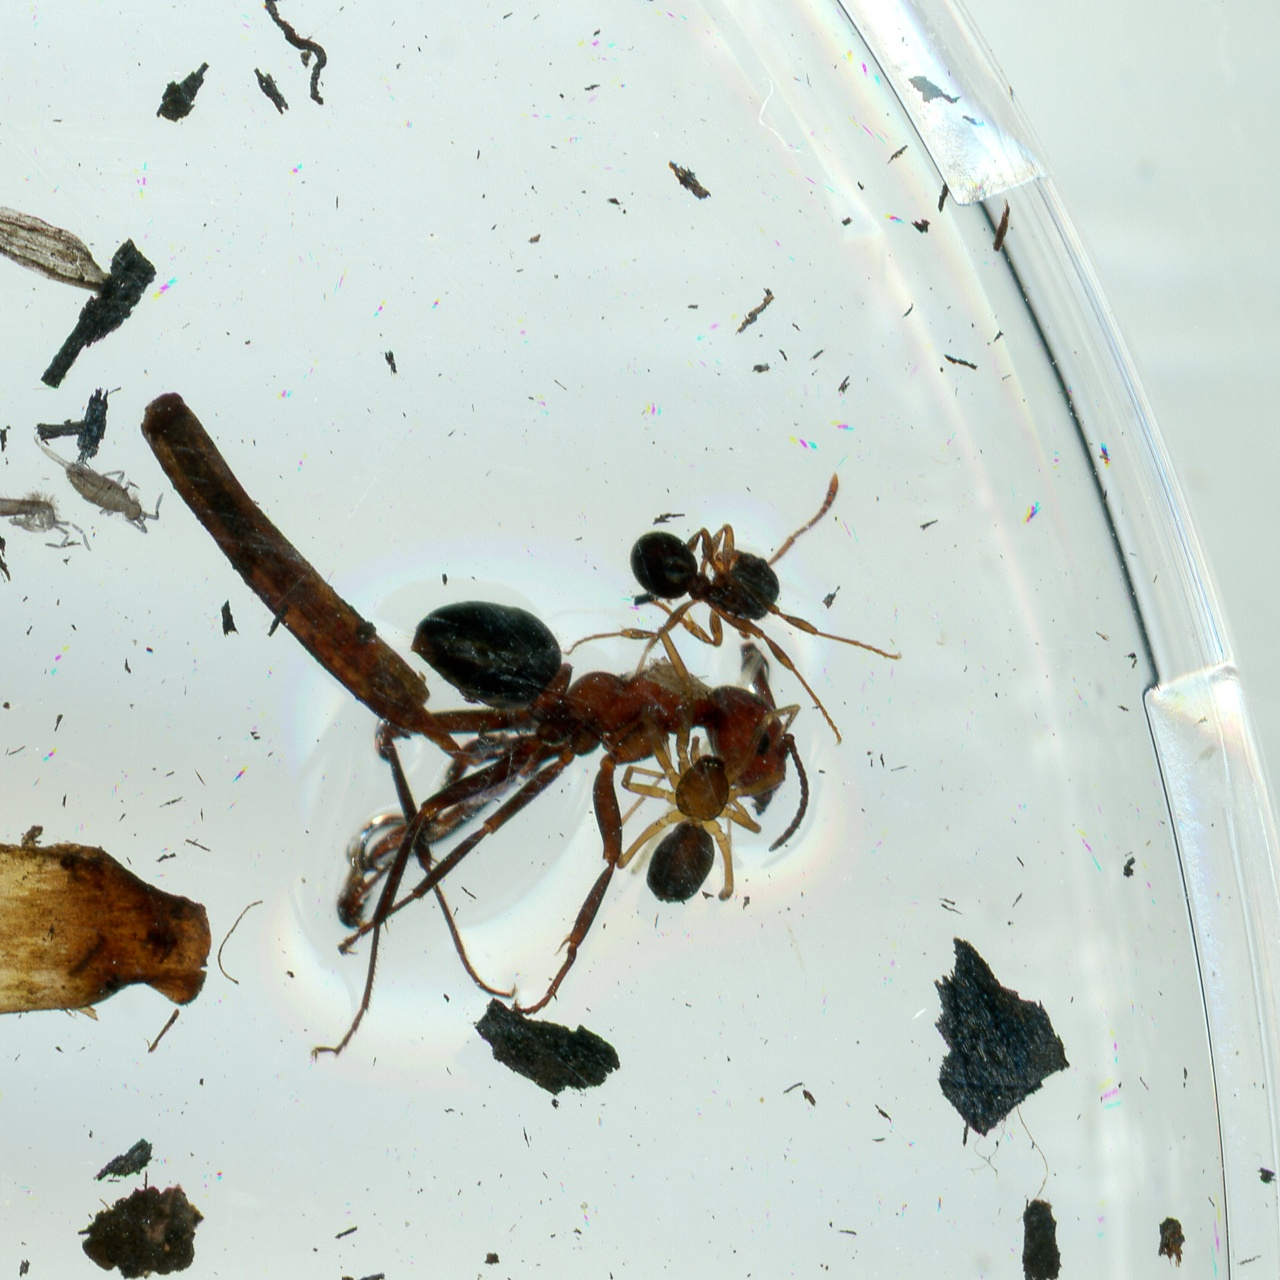arthropod: (298, 589, 814, 1078), (559, 466, 915, 745), (608, 727, 765, 911), (12, 425, 180, 547), (0, 464, 95, 558)
